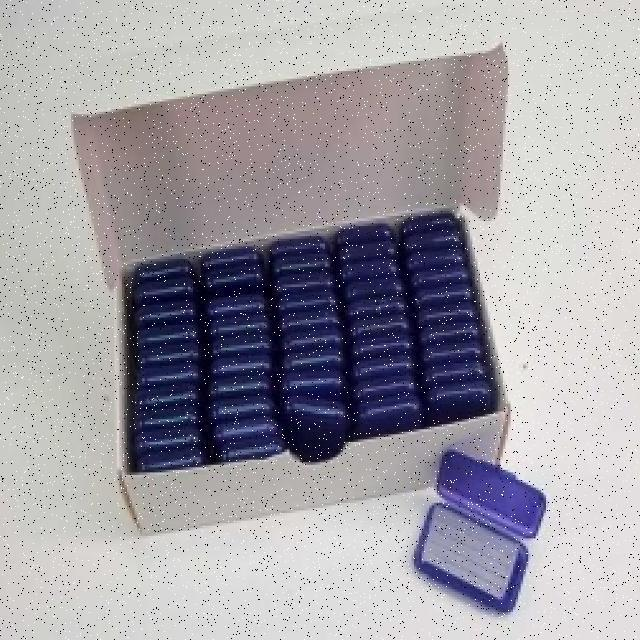box: (48, 67, 560, 540)
